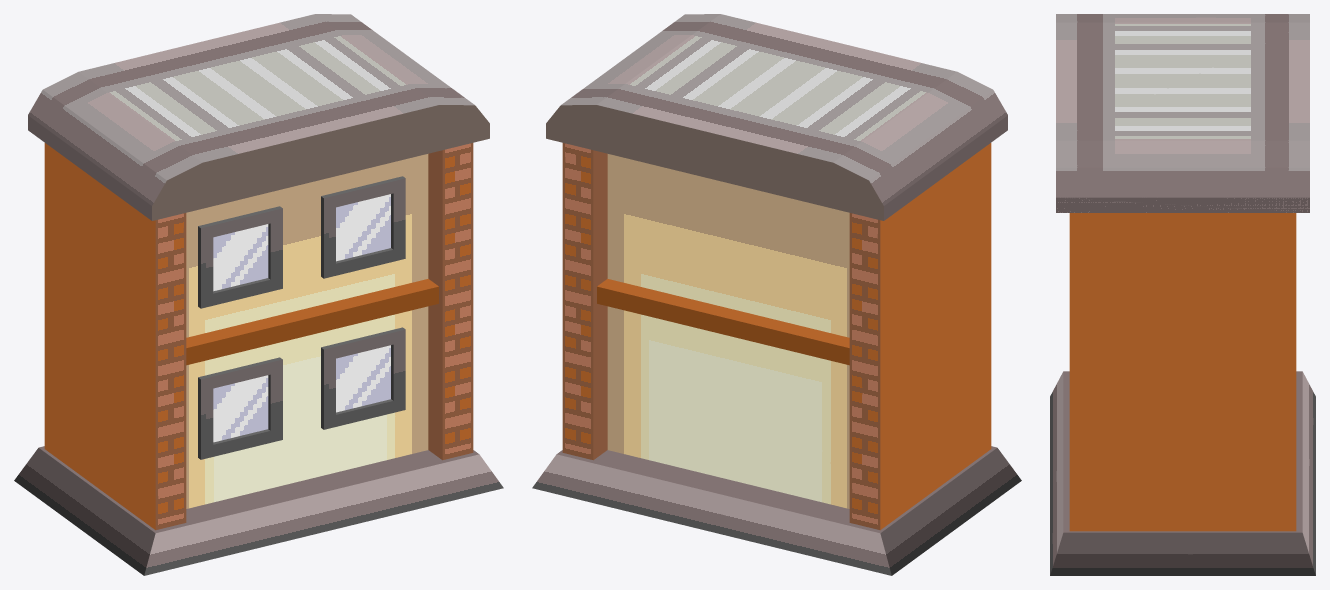
Rendered from goldenrod1.glb.
3 renders of one model, left to right at view 1: azimuth 30°, elevation 25°; view 2: azimuth 150°, elevation 25°; view 3: azimuth 270°, elevation 25°, orthographic. The views are drawn at different scales.
Visible parts, largest first — view 1: Cube.004, Cube.001, Cube.003, Cube, Cube.002, Cube.005, Cube.008, Cube.006, Cube.009, Cube.007, Plane.002, Plane (+2 smaller); view 2: Cube.003, Cube.004, Cube.001, Cube, Cube.002, Cube.005; view 3: Cube.002, Cube.004, Cube.
Boxes of the visible parts, x1=… form: Cube.004: x1=28, y1=14, x2=489, y2=220; Cube.001: x1=44, y1=143, x2=186, y2=530; Cube.003: x1=186, y1=154, x2=428, y2=508; Cube: x1=14, y1=446, x2=503, y2=575; Cube.002: x1=428, y1=143, x2=473, y2=460; Cube.005: x1=186, y1=279, x2=438, y2=365; Cube.008: x1=198, y1=357, x2=282, y2=459; Cube.006: x1=198, y1=206, x2=282, y2=308; Cube.009: x1=321, y1=327, x2=405, y2=429; Cube.007: x1=321, y1=176, x2=405, y2=278; Plane.002: x1=213, y1=375, x2=268, y2=442; Plane: x1=213, y1=224, x2=268, y2=291; Cube.003: x1=607, y1=154, x2=849, y2=508; Cube.004: x1=546, y1=14, x2=1007, y2=220; Cube.001: x1=849, y1=143, x2=991, y2=530; Cube: x1=532, y1=446, x2=1021, y2=575; Cube.002: x1=562, y1=143, x2=607, y2=460; Cube.005: x1=597, y1=279, x2=849, y2=365; Cube.002: x1=1069, y1=213, x2=1296, y2=531; Cube.004: x1=1056, y1=14, x2=1309, y2=212; Cube: x1=1050, y1=371, x2=1315, y2=575.
Size of the model in its own units: 4 by 4.21 by 2.51.
Materials: 7 (7 with a texture image).
